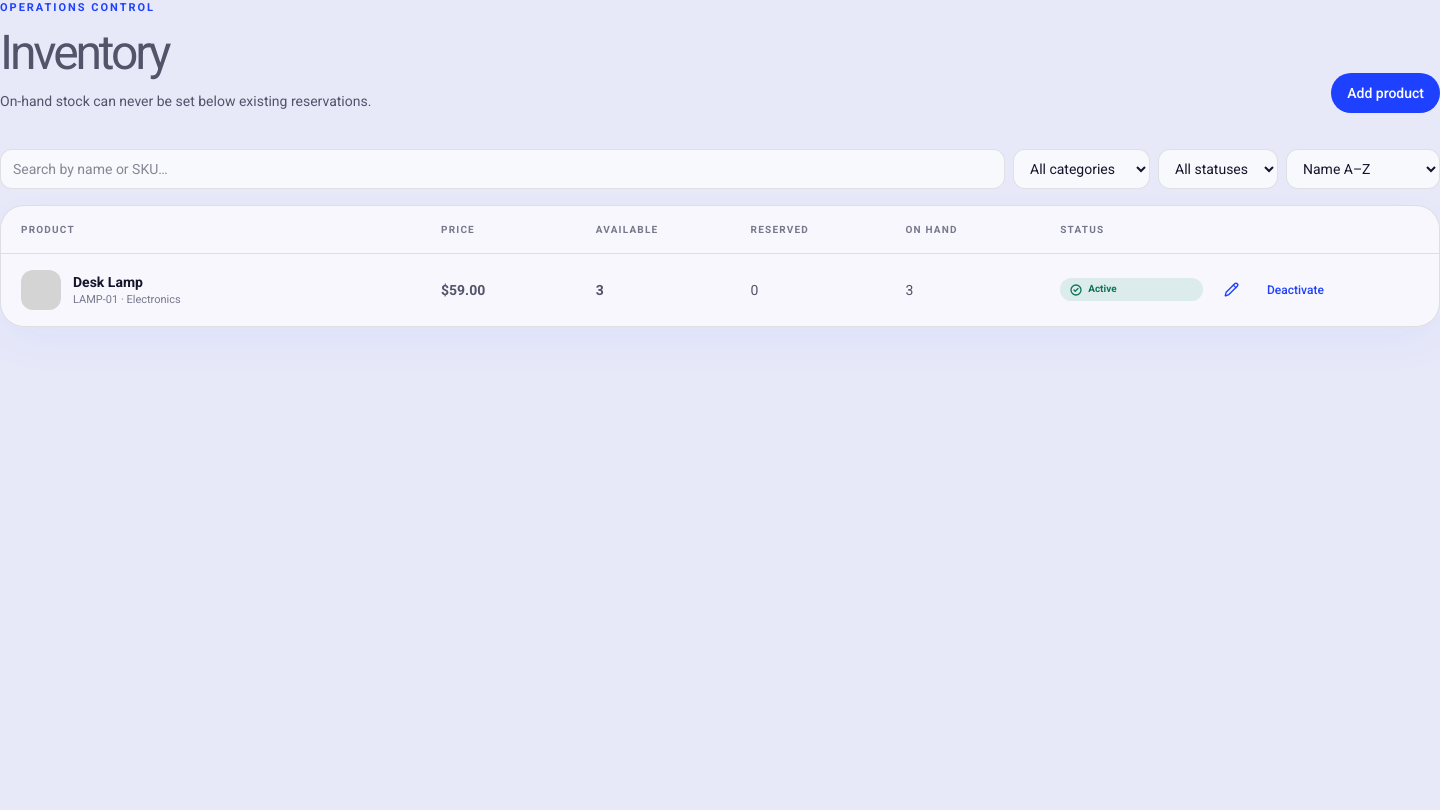
AdminInventory › lists inventory with thumbnails and edits a product through the form
The width and height of the screenshot is (1440, 810).
Expected: the text "Desk Lamp" is shown, top-left (73, 274), bottom-right (143, 290)
Expected: the text "$59.00" is shown, top-left (441, 282), bottom-right (485, 298)
Click the button named "Edit Desk Lamp".
click(1231, 290)  # box top-left (1215, 274), bottom-right (1247, 306)
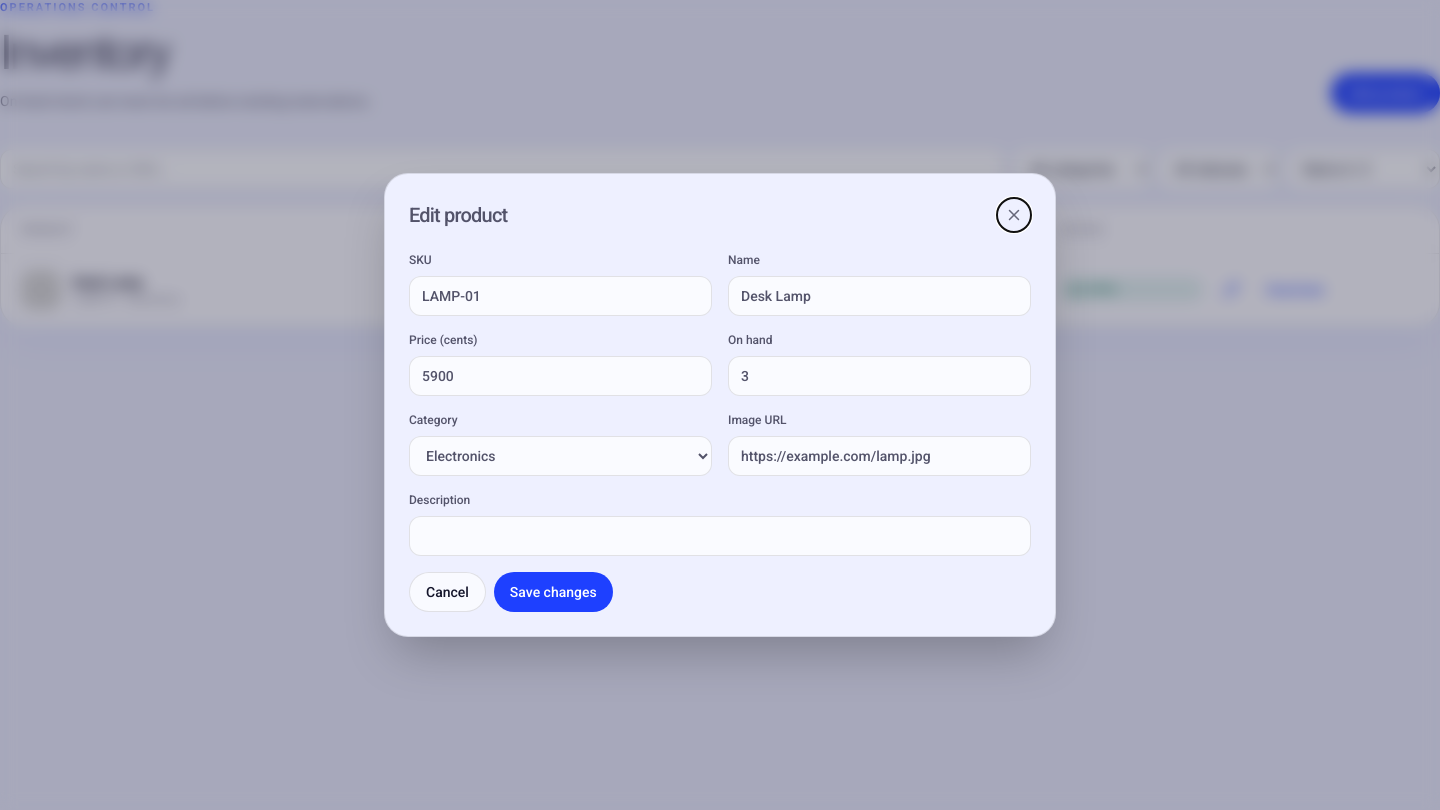
Now the field labelled "Name" holds "Desk Lamp"
Now the field labelled "SKU" is disabled, box top-left (409, 276), bottom-right (712, 316)
Replace the text in the field labelled "Name" with "Renamed Lamp" at (880,296), box top-left (728, 276), bottom-right (1031, 316)
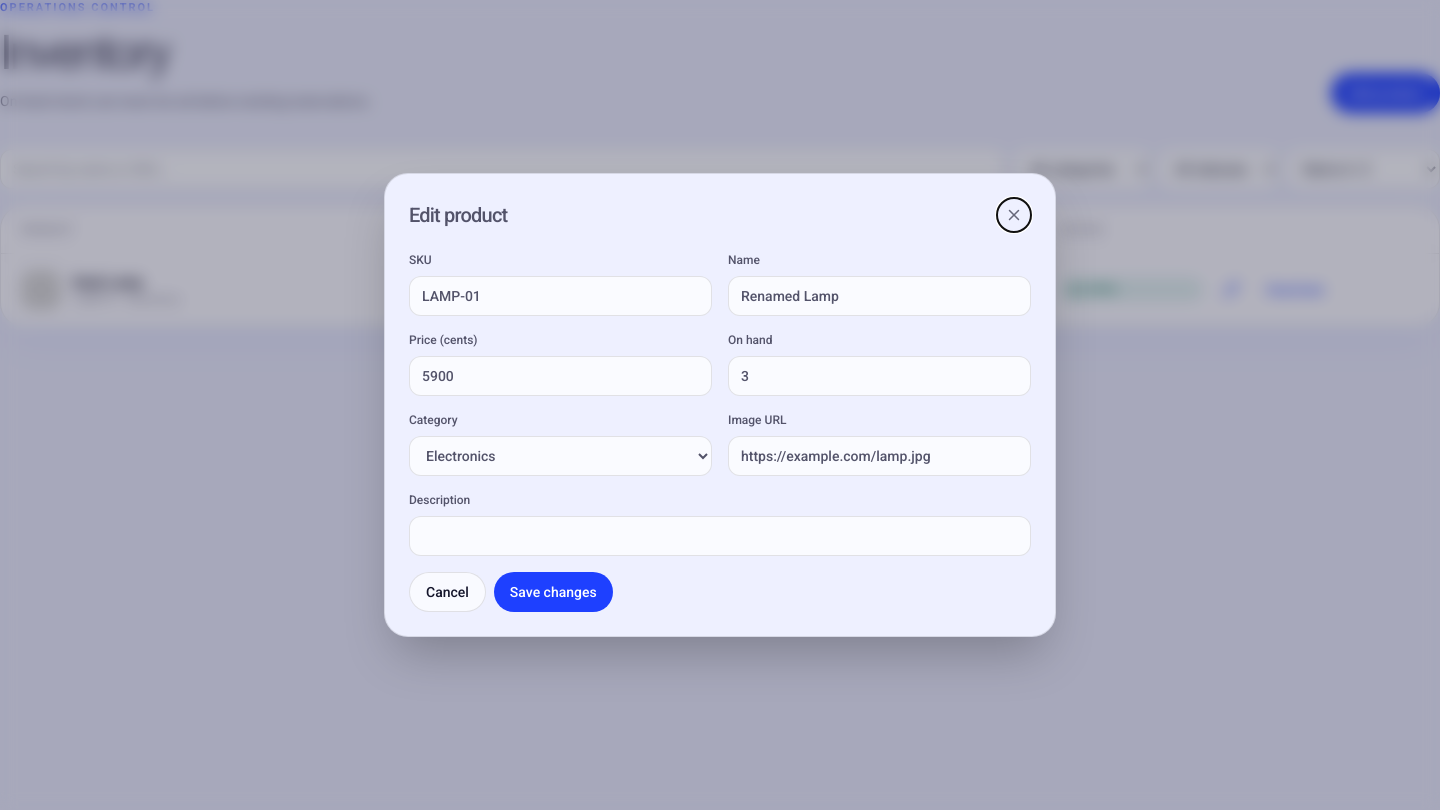
Replace the text in the number field labelled "On hand" with "2" at (880,376), box top-left (728, 356), bottom-right (1031, 396)
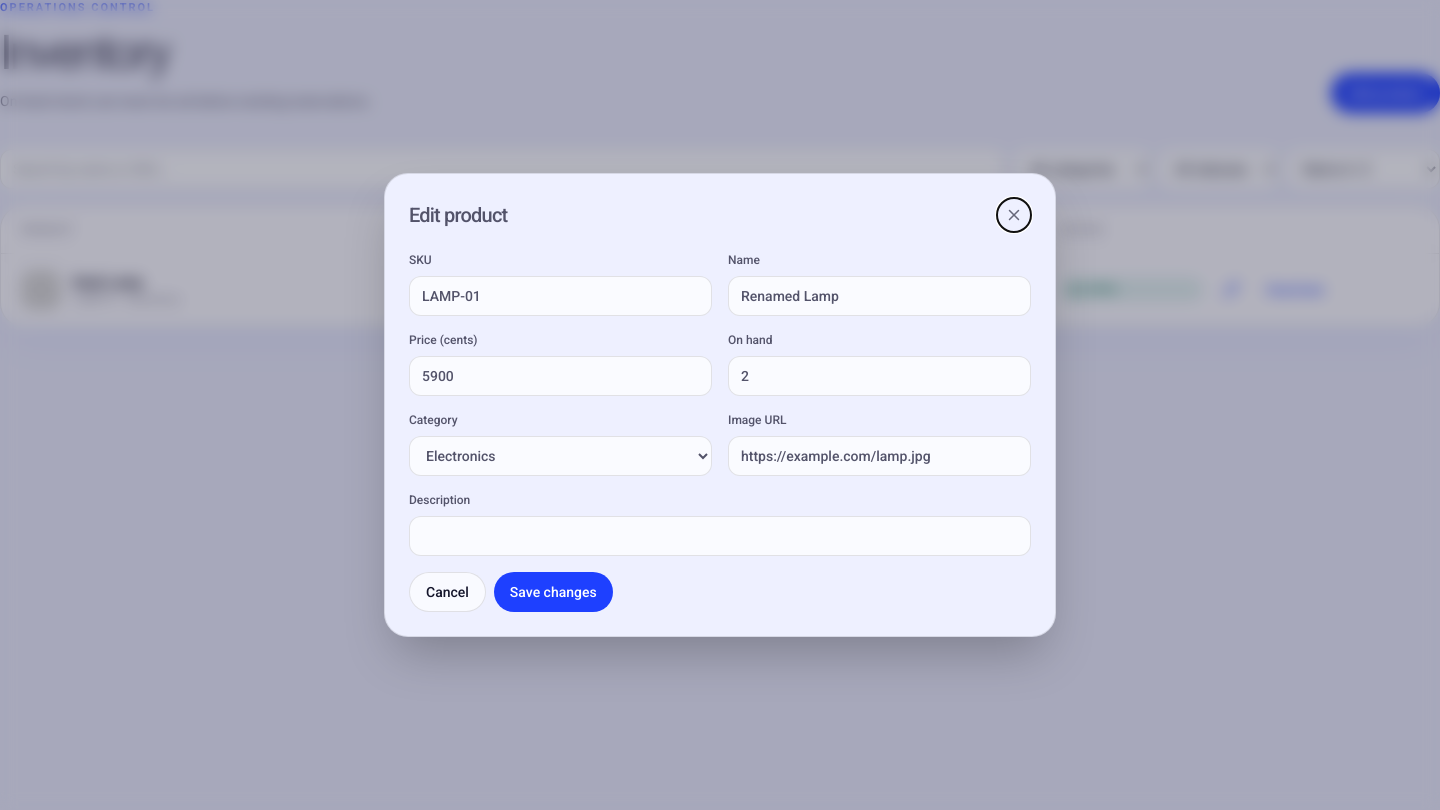
Click the button "Save changes".
click(553, 592)  # box top-left (494, 572), bottom-right (613, 612)
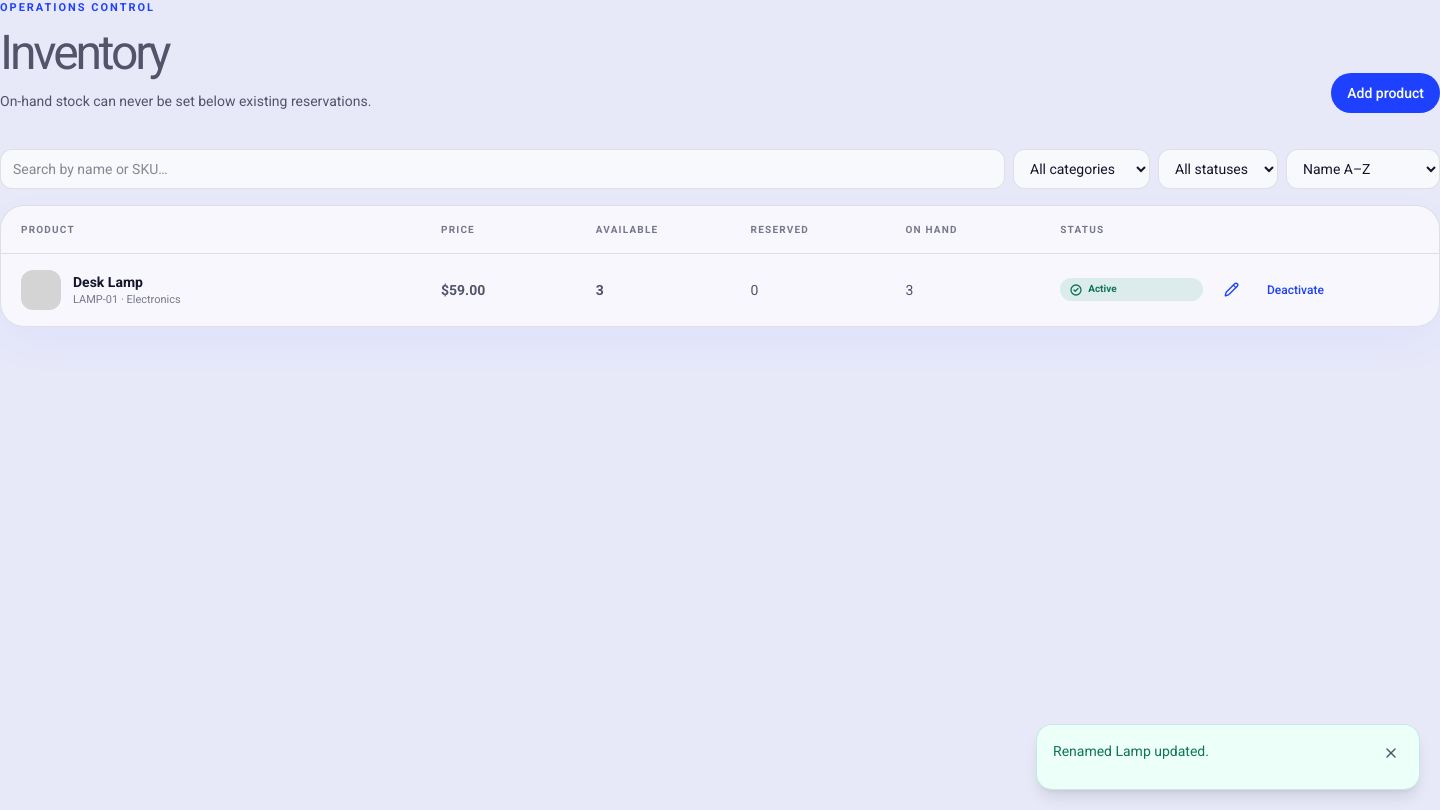
Now the text "Renamed Lamp updated." is shown, box top-left (1053, 741), bottom-right (1209, 761)
